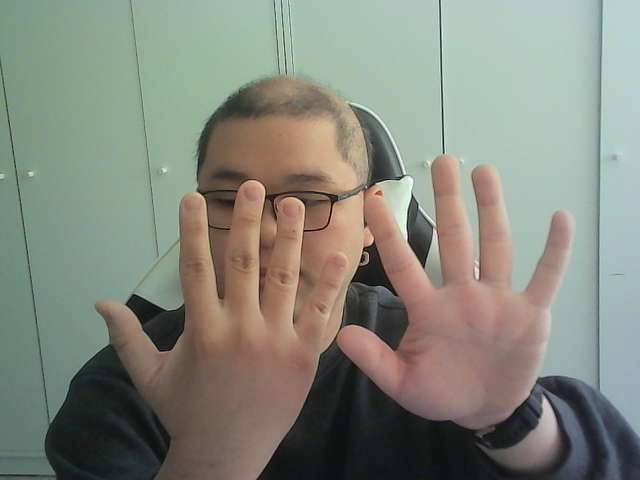Ten: (95, 154, 577, 422)
